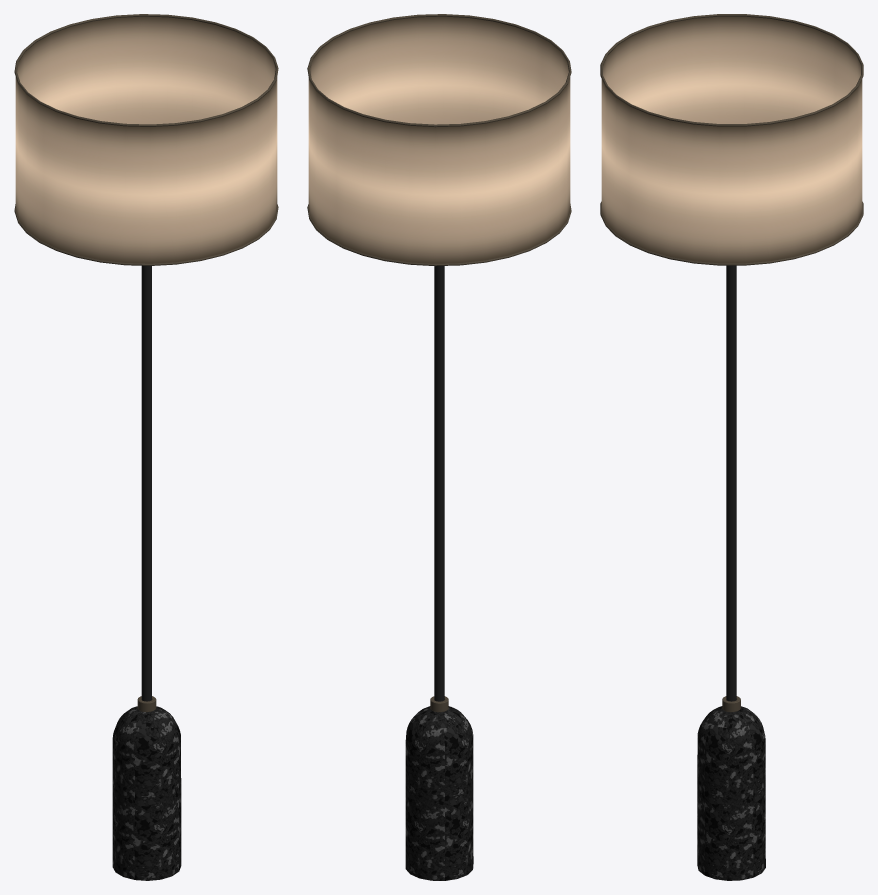
The model's file is CGT_FloorLamp_013.glb.
3 views of the same model, side by side, from view 1: azimuth 30°, elevation 25°; view 2: azimuth 150°, elevation 25°; view 3: azimuth 270°, elevation 25° (orthographic).
Parts seen in each view (by area): view 1: CGT_FloorLamp_013; view 2: CGT_FloorLamp_013; view 3: CGT_FloorLamp_013.
Boxes of the visible parts, x1,y1,x2,y2 form: CGT_FloorLamp_013: (14, 14, 278, 880); CGT_FloorLamp_013: (307, 14, 571, 880); CGT_FloorLamp_013: (600, 14, 863, 880).
Bounding box in the file's own units: 0.3854 × 1.29 × 0.3854.
4 materials, 2 textured.
